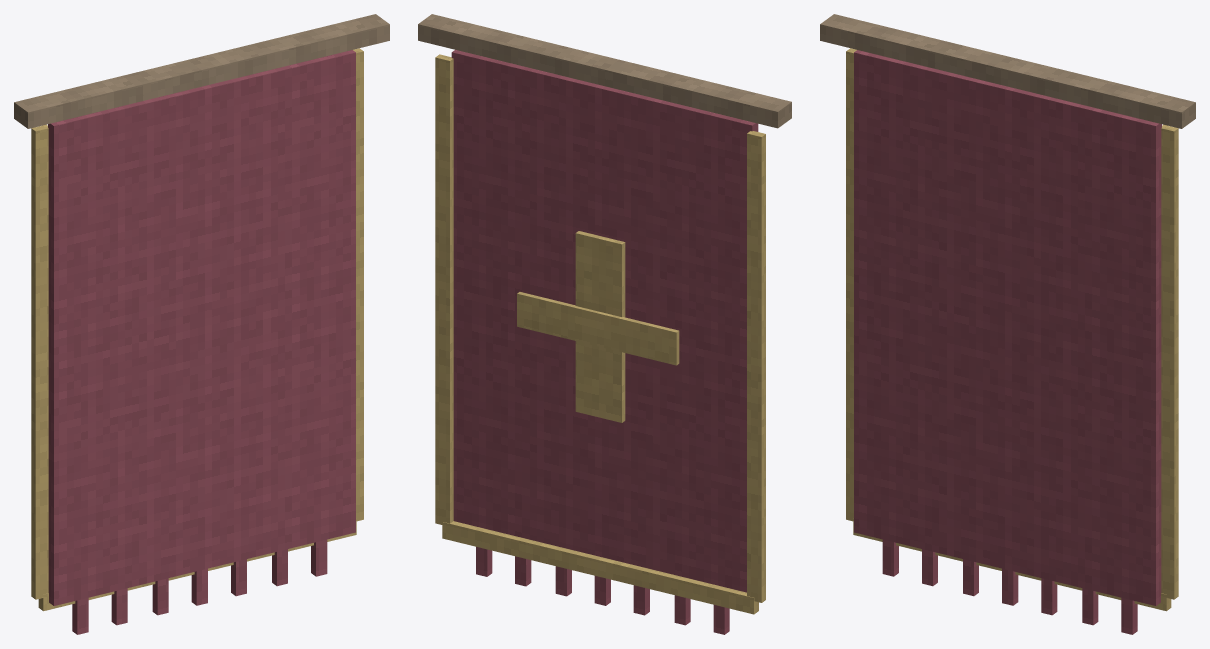
The model's file is level_blockout_castle_wall_tapestry.glb.
3 renders of one model, left to right at view 1: azimuth 30°, elevation 25°; view 2: azimuth 150°, elevation 25°; view 3: azimuth 330°, elevation 25°, orthographic.
Visible parts, largest first — view 1: level_blockout_castle_wall_tapestry; view 2: level_blockout_castle_wall_tapestry; view 3: level_blockout_castle_wall_tapestry.
Part boxes in pixels (bbox=[...]): level_blockout_castle_wall_tapestry: bbox=[14, 14, 389, 634]; level_blockout_castle_wall_tapestry: bbox=[418, 14, 791, 634]; level_blockout_castle_wall_tapestry: bbox=[820, 14, 1195, 634].
Size of the model in its own units: 1.94 by 2.77 by 0.1415.
Materials: 3 (3 with a texture image).
